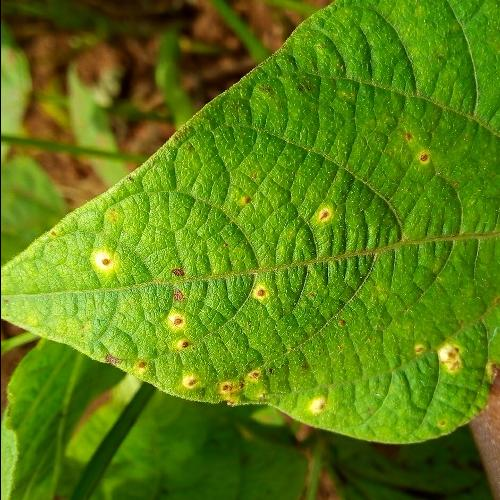hawar: (87, 132, 436, 422)
